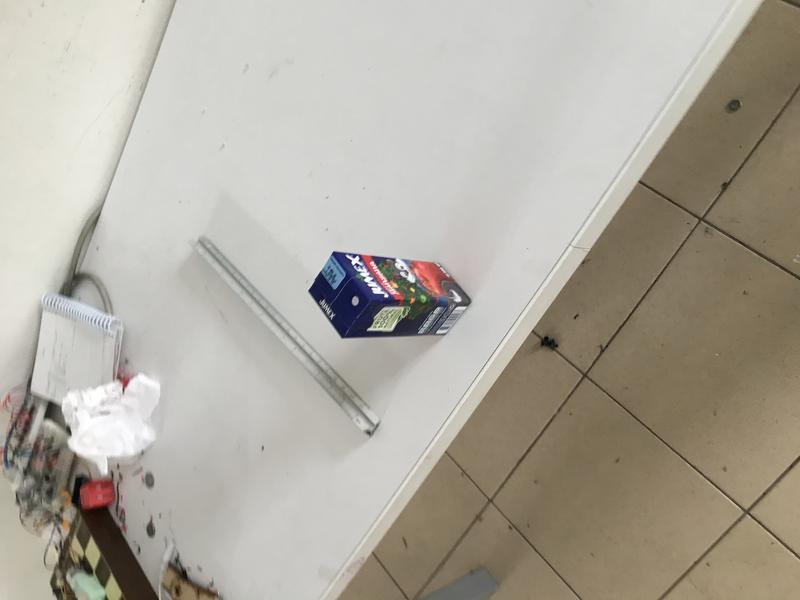jumex_cajita: (309, 251, 472, 339)
